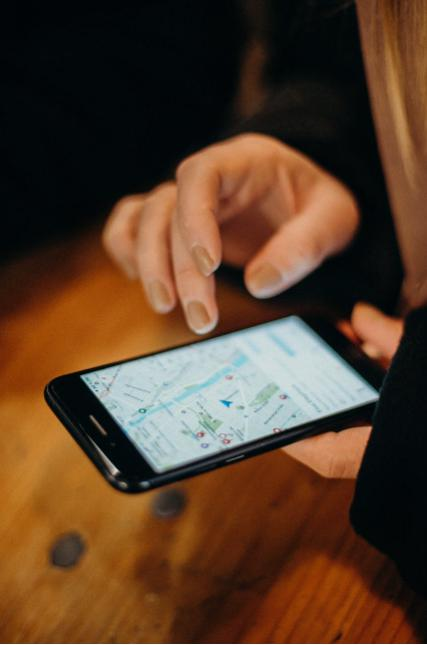mobile: (45, 314, 391, 493)
